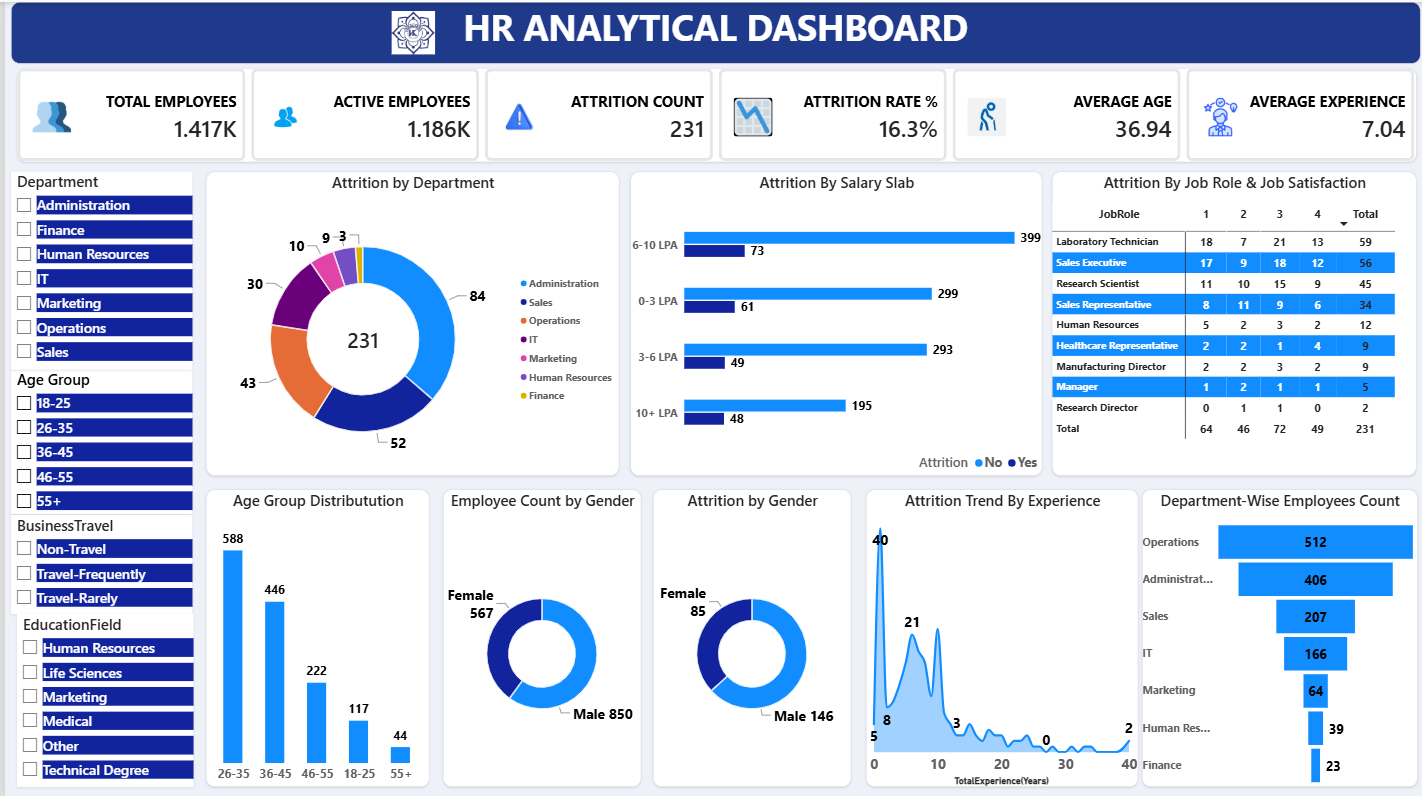

The dashboard page shown, as its layout file describes it:
{"tool":"powerbi","page":{"name":"Page 1","canvas":[1920,1080],"ordinal":0},"visuals":[{"type":"textbox","box":[10,0,1259,85],"z":0},{"type":"textbox","box":[8.1,0,1905,83.1],"z":1000},{"type":"donutChart","title":"Attrition by Department","fields":{"Y":["Sum(HR_Analytics-4.AttritionCount)"],"Category":["HR_Analytics-4.Department"]},"box":[272.6,229.4,558.7,411.1],"z":8000},{"type":"clusteredBarChart","title":"Attrition By Salary Slab","fields":{"Category":["HR_Analytics-4.SalarySlab"],"Y":["CountNonNull(HR_Analytics-4.EmpID)"],"Series":["HR_Analytics-4.Attrition"]},"box":[844.9,229.4,556.5,411.1],"z":9000},{"type":"pivotTable","title":"Attrition By Job Role & Job Satisfaction","fields":{"Rows":["HR_Analytics-4.JobRole"],"Columns":["HR_Analytics-4.JobSatisfaction"],"Values":["Sum(HR_Analytics-4.AttritionCount)"]},"box":[1415,229.4,492.9,411.1],"z":10000},{"type":"columnChart","title":"Age Group Distributution","fields":{"Category":["HR_Analytics-4.AgeGroup"],"Y":["Sum(HR_Analytics-4.EmployeeCount)"]},"box":[272.6,658.7,302.1,402],"z":11000},{"type":"pieChart","title":"Employee Count by Gender","fields":{"Category":["HR_Analytics-4.Gender"],"Y":["Sum(HR_Analytics-4.EmployeeCount)"]},"box":[592.8,658.7,268,402],"z":12000},{"type":"pieChart","title":"Attrition by Gender","fields":{"Category":["HR_Analytics-4.Gender"],"Y":["Sum(HR_Analytics-4.AttritionCount)"]},"box":[876.7,658.7,268,402],"z":13000},{"type":"areaChart","title":"Attrition Trend By Experience","fields":{"Category":["HR_Analytics-4.TotalExperience(Years)"],"Y2":["Sum(HR_Analytics-4.AttritionCount)"]},"box":[1162.9,658.7,368,402],"z":14000},{"type":"funnel","title":"Department-Wise Employees Count","fields":{"Category":["HR_Analytics-4.Department"],"Y":["CountNonNull(HR_Analytics-4.EmpID)"]},"box":[1537.7,658.7,372.5,402],"z":15000},{"type":"slicer","fields":{"Values":["HR_Analytics-4.AgeGroup"]},"box":[9.1,497.4,245.3,195.3],"z":16000},{"type":"slicer","fields":{"Values":["HR_Analytics-4.Department"]},"box":[9.1,229.4,245.3,268],"z":17000},{"type":"slicer","fields":{"Values":["HR_Analytics-4.BusinessTravel"]},"box":[9.1,692.7,245.3,134],"z":18000},{"type":"slicer","fields":{"Values":["HR_Analytics-4.EducationField"]},"box":[15.9,826.8,238.5,233.9],"z":19000},{"type":"cardVisual","title":"TOTAL EMPLOYEES","fields":{"Data":["CountNonNull(HR_Analytics-4.EmpID)","HR_Analytics-4.Active Employees","Sum(HR_Analytics-4.AttritionCount)","HR_Analytics-4.AttritionRate%","Avg(HR_Analytics-4.Age)","Avg(HR_Analytics-4.YearsatCompany)"]},"box":[15.9,90,1892,127.2],"z":19001},{"type":"image","box":[488.3,11.7,126.7,58.3],"z":19002}]}

Visuals, with their boxes in screenshot pixels (x1, y1, x2, y2), scaled from the page's 1920x1080 canvas onto the 1422x796 screenshot:
textbox: [7,0,940,63]
textbox: [6,0,1417,61]
"Attrition by Department" donutChart: [202,169,616,472]
"Attrition By Salary Slab" clusteredBarChart: [626,169,1038,472]
"Attrition By Job Role & Job Satisfaction" pivotTable: [1048,169,1413,472]
"Age Group Distributution" columnChart: [202,485,426,782]
"Employee Count by Gender" pieChart: [439,485,638,782]
"Attrition by Gender" pieChart: [649,485,848,782]
"Attrition Trend By Experience" areaChart: [861,485,1134,782]
"Department-Wise Employees Count" funnel: [1139,485,1415,782]
slicer - HR_Analytics-4.AgeGroup: [7,367,188,511]
slicer - HR_Analytics-4.Department: [7,169,188,367]
slicer - HR_Analytics-4.BusinessTravel: [7,511,188,609]
slicer - HR_Analytics-4.EducationField: [12,609,188,782]
"TOTAL EMPLOYEES" cardVisual: [12,66,1413,160]
image: [362,9,455,52]
